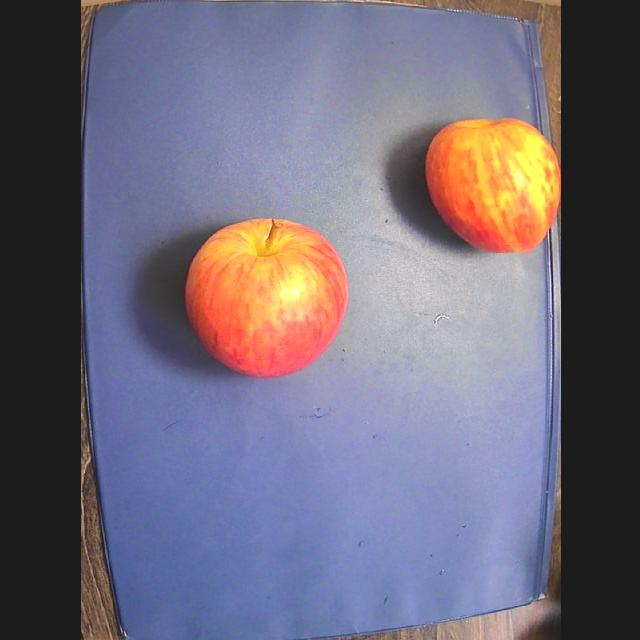manzana: (185, 219, 346, 376), (426, 119, 560, 250)
